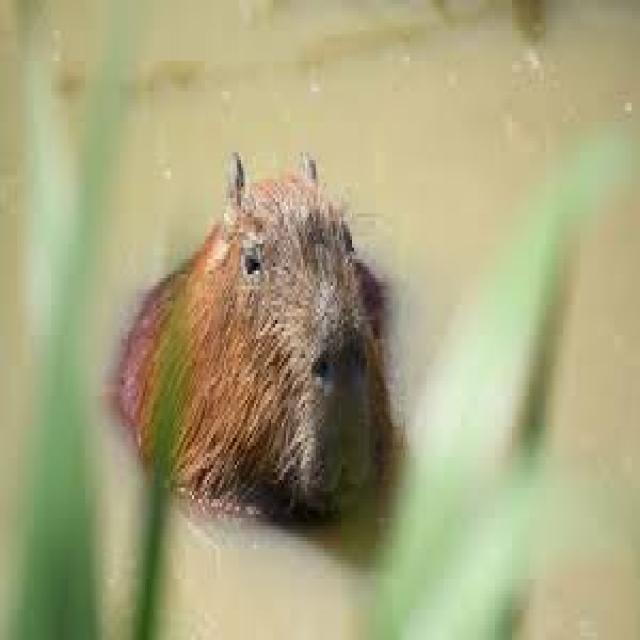capy: (104, 148, 396, 536)
